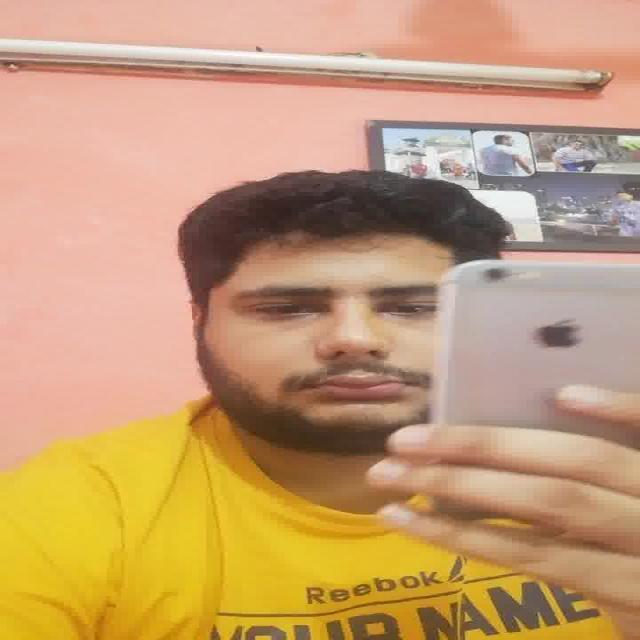Phone: (435, 256, 640, 424)
